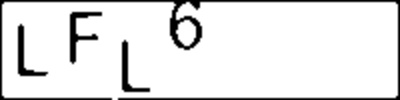6: (168, 1, 209, 54)
F: (67, 9, 105, 66)
L: (13, 22, 53, 80), (119, 34, 156, 95)
